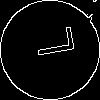L: (25, 25, 75, 61)
